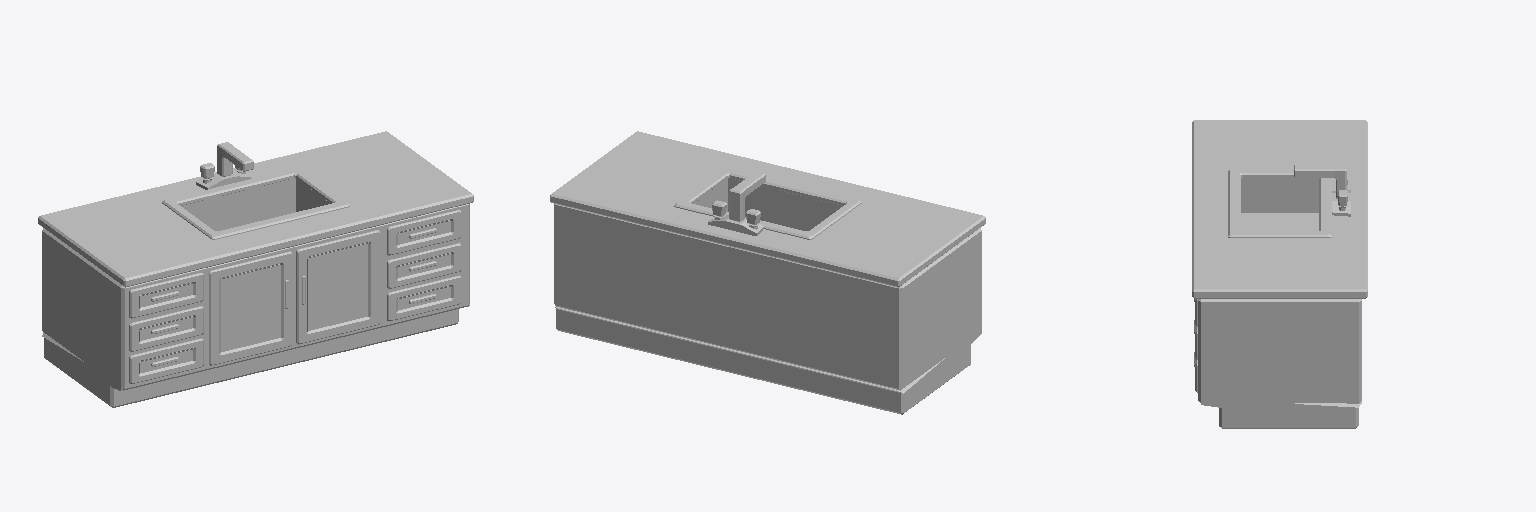
Rendered from Counter_B.obj.
3 views of the same model, side by side, from view 1: azimuth 30°, elevation 25°; view 2: azimuth 150°, elevation 25°; view 3: azimuth 270°, elevation 25° (orthographic).
Parts seen in each view (by area): view 1: Counter_B; view 2: Counter_B; view 3: Counter_B.
Part boxes in pixels (left/top/right/bottom): Counter_B: left=38, top=131, right=473, bottom=407; Counter_B: left=550, top=131, right=985, bottom=414; Counter_B: left=1192, top=120, right=1367, bottom=428.
Bounding box in the file's own units: 14.42 × 7.01 × 6.26.